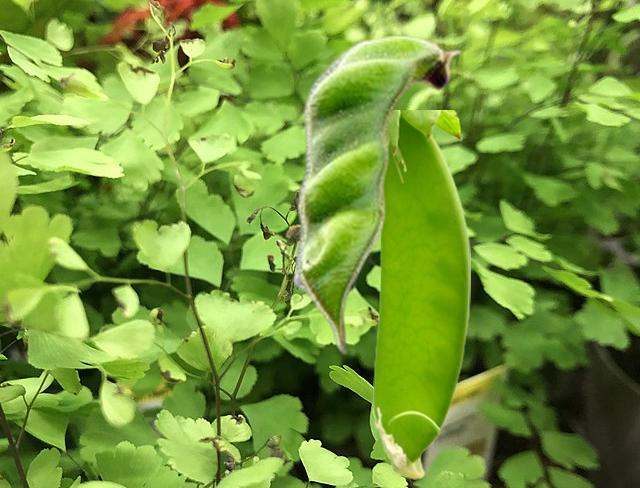pea: (291, 34, 461, 354), (373, 110, 469, 478)
